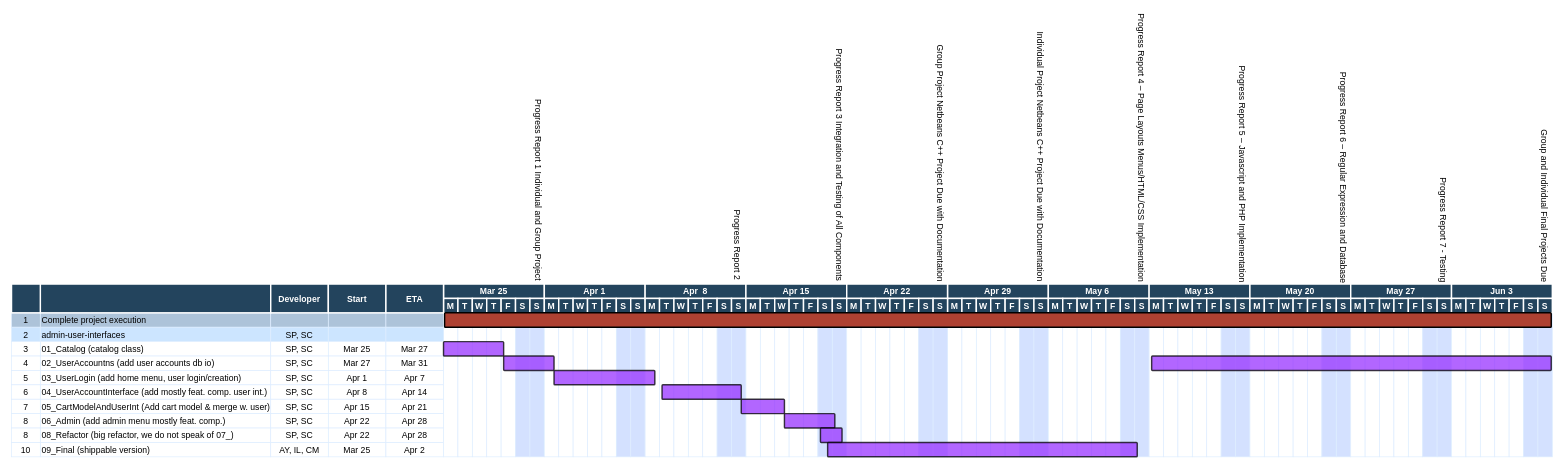
Image size: 1565x470. Some labels were removed from this diagram. Here are the shapes that lost their labels. From the top down, the centre of each, then its label:
At point (155, 298): "Task Name".
At point (1351, 363): "Phase 2 - Conversion - Timeline TBD".
